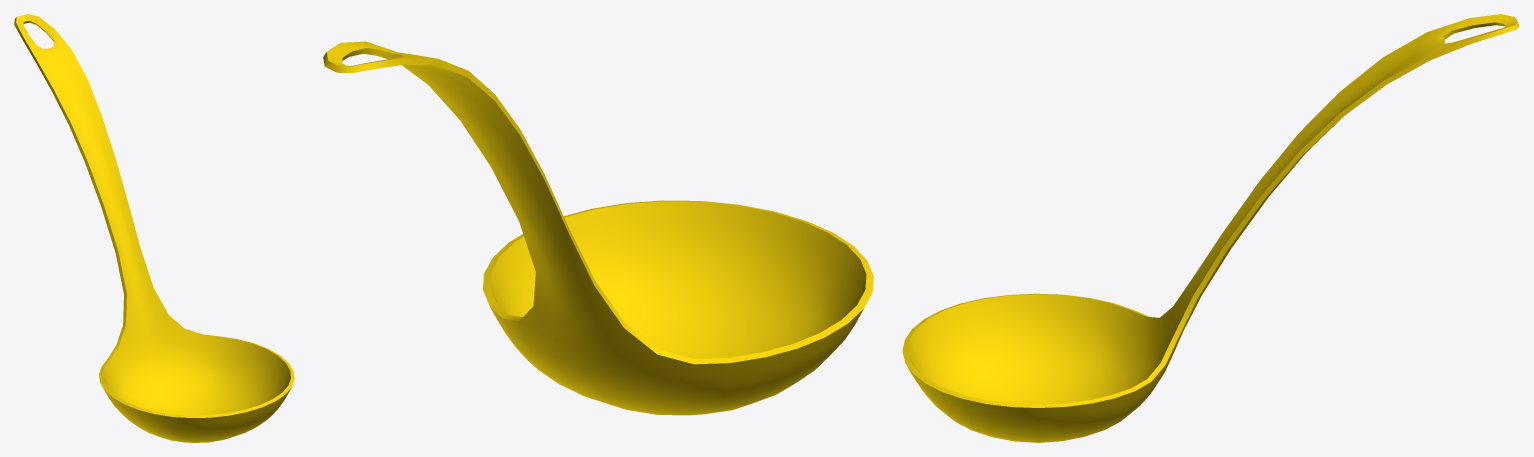
Rendered from ladle_yellow.obj.
3 views of the same model, side by side, from view 1: azimuth 30°, elevation 25°; view 2: azimuth 150°, elevation 25°; view 3: azimuth 270°, elevation 25° (orthographic). The views are drawn at different scales.
Parts seen in each view (by area): view 1: Cube.005; view 2: Cube.005; view 3: Cube.005.
Boxes of the visible parts, x1,y1,x2,y2 form: Cube.005: (14, 14, 294, 442); Cube.005: (323, 41, 873, 415); Cube.005: (902, 14, 1519, 442).
Size of the model in its own units: 0.0791 by 0.1301 by 0.1803.
1 material, 1 textured.
